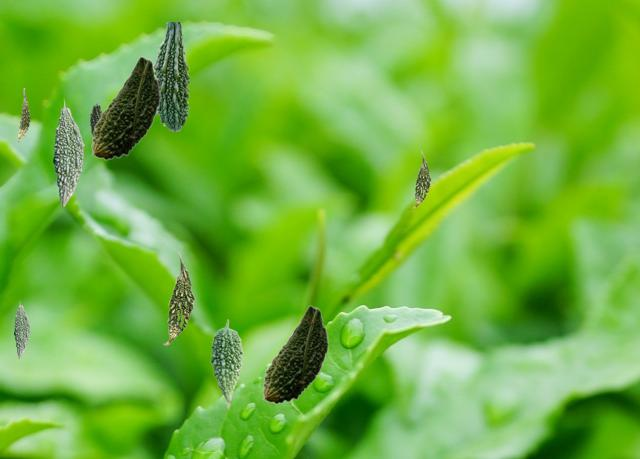ampalaya: (91, 56, 160, 159), (262, 305, 328, 403), (154, 22, 189, 130), (53, 98, 83, 206), (163, 250, 194, 344), (210, 319, 242, 408), (412, 150, 430, 207), (14, 300, 29, 357), (18, 88, 29, 141), (90, 103, 101, 134)
